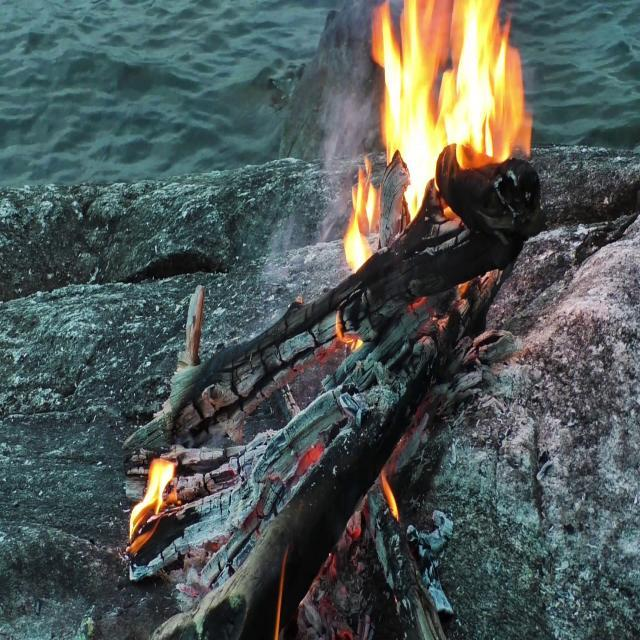Fire: (370, 0, 536, 193), (124, 447, 184, 542), (335, 156, 385, 268)
